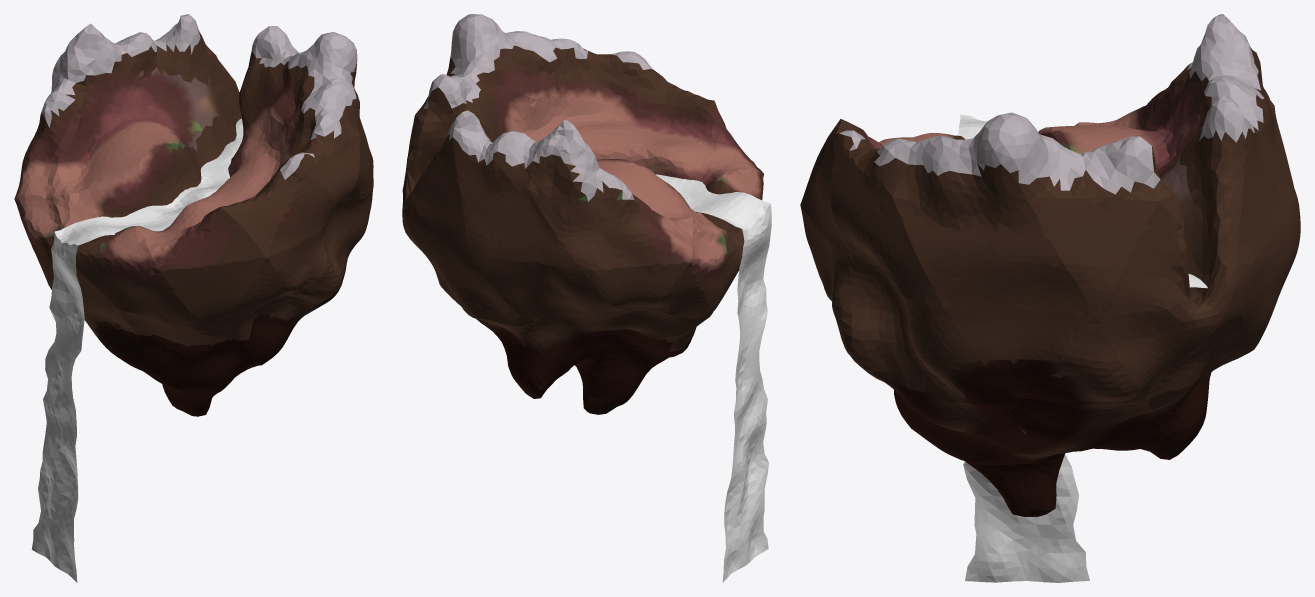
File: islan2 (1).fbx
3 views of the same model, side by side, from view 1: azimuth 30°, elevation 25°; view 2: azimuth 150°, elevation 25°; view 3: azimuth 270°, elevation 25° (orthographic). The views are drawn at different scales.
Parts seen in each view (by area): view 1: Icosphere, Plane; view 2: Icosphere, Plane; view 3: Icosphere, Plane.
Boxes of the visible parts, box(x1,y1,x2,y2) form: Icosphere: box(14, 14, 373, 416); Plane: box(31, 118, 243, 582); Icosphere: box(402, 14, 763, 414); Plane: box(656, 174, 771, 582); Icosphere: box(800, 14, 1300, 516); Plane: box(958, 114, 1207, 582).
Size of the model in its own units: 2830 by 4171 by 2920.
